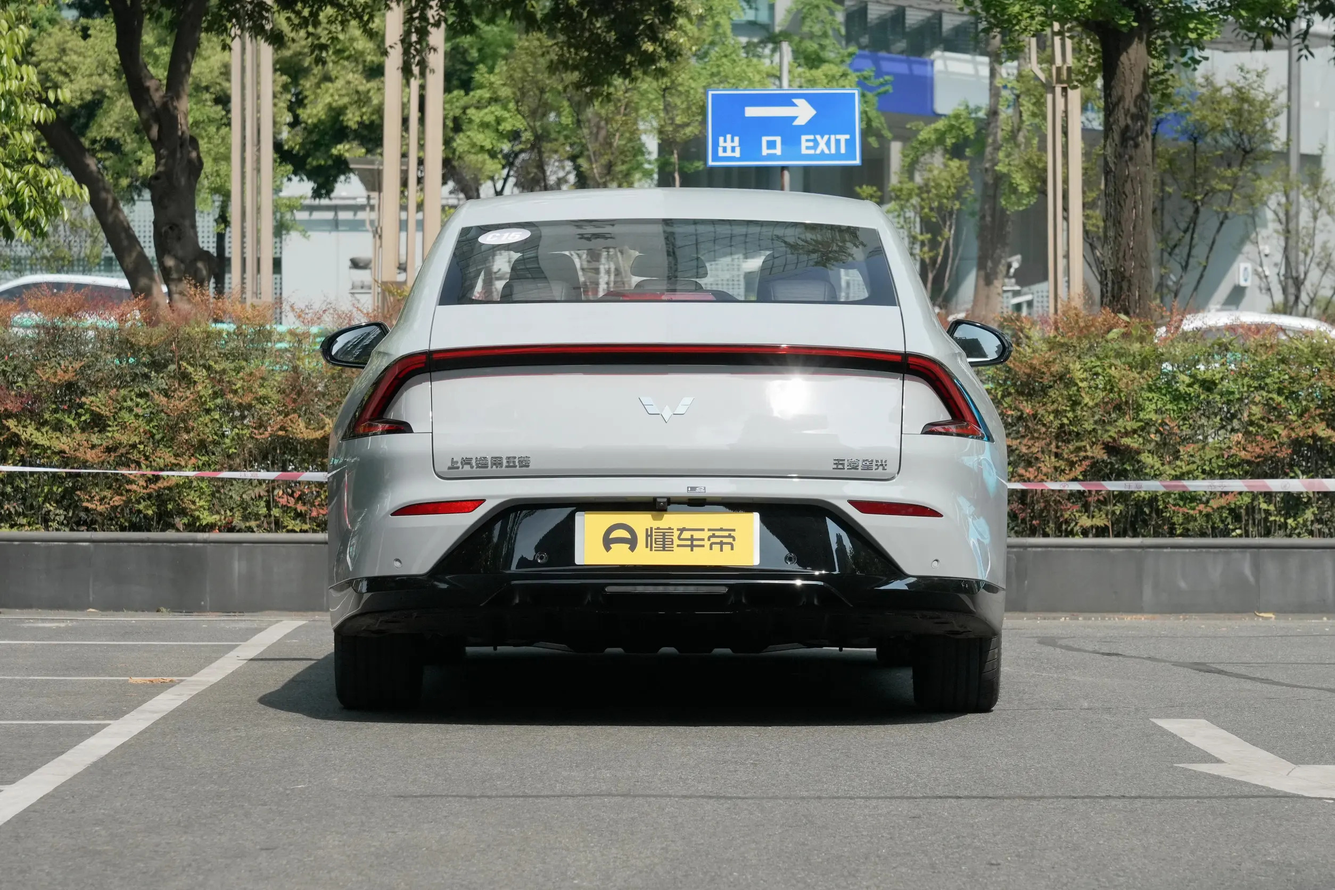SGMW: (639, 397, 694, 422)
